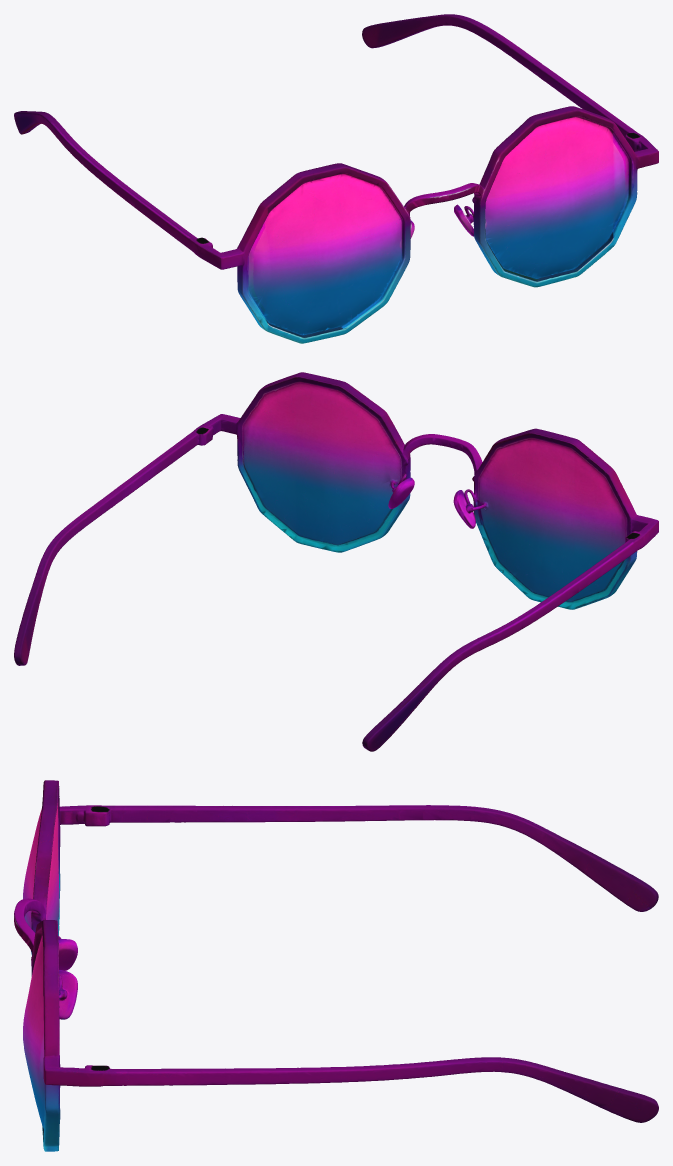
The model's file is Prism.glb.
The picture shows the model from 3 angles, top to bottom: view 1: azimuth 30°, elevation 25°; view 2: azimuth 150°, elevation 25°; view 3: azimuth 270°, elevation 25°; orthographic projection. The views are drawn at different scales.
Size of the model in its own units: 1.87 by 0.6721 by 1.9.
Materials: 1 (1 with a texture image).
